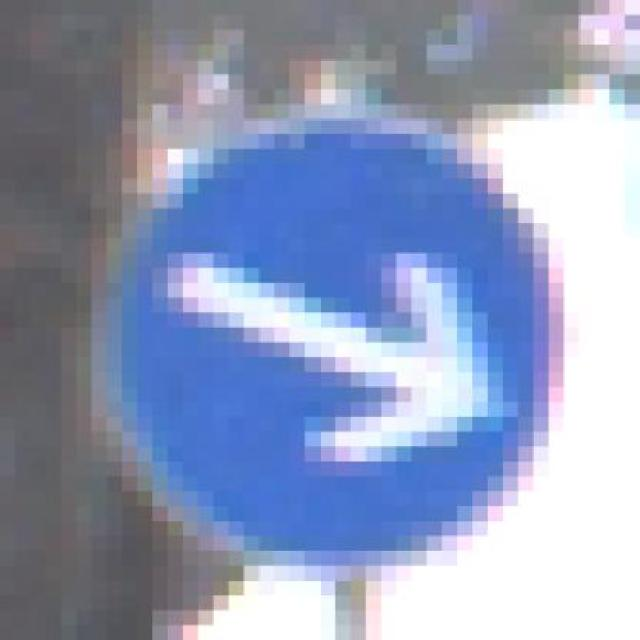Keep-Right: (61, 104, 579, 596)
